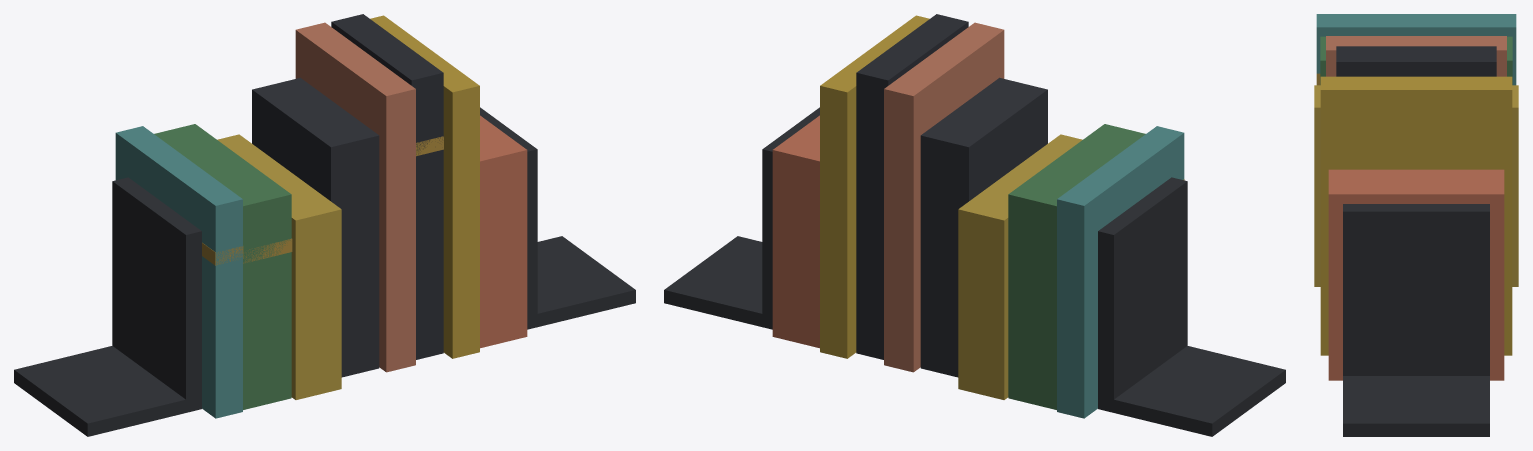
Rendered from book-stack-16.glb.
3 renders of one model, left to right at view 1: azimuth 30°, elevation 25°; view 2: azimuth 150°, elevation 25°; view 3: azimuth 270°, elevation 25°, orthographic.
Parts seen in each view (by area): view 1: book_stack_16; view 2: book_stack_16; view 3: book_stack_16.
Part boxes in pixels (x1,y1,x2,y2): book_stack_16: (14, 14, 635, 436); book_stack_16: (664, 14, 1285, 436); book_stack_16: (1314, 14, 1518, 436).
Size of the model in its own units: 0.5158 by 0.2524 by 0.167.
